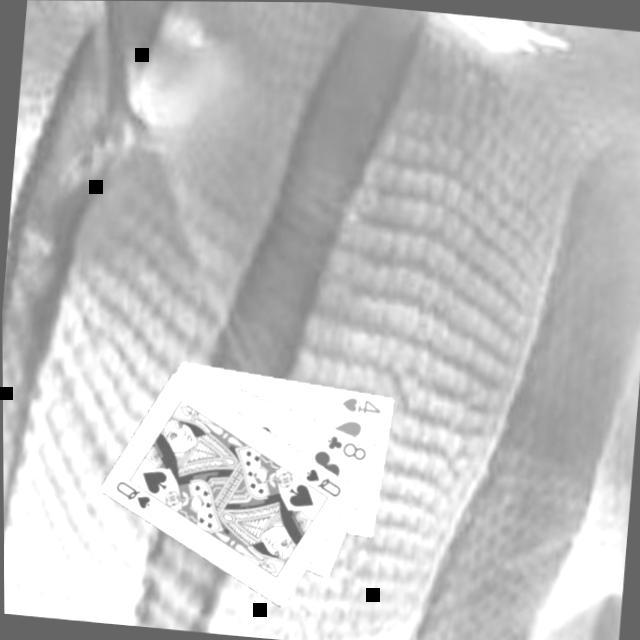4H: (339, 394, 386, 419)
8C: (323, 432, 371, 465)
QS: (302, 466, 347, 502), (111, 478, 156, 514)
